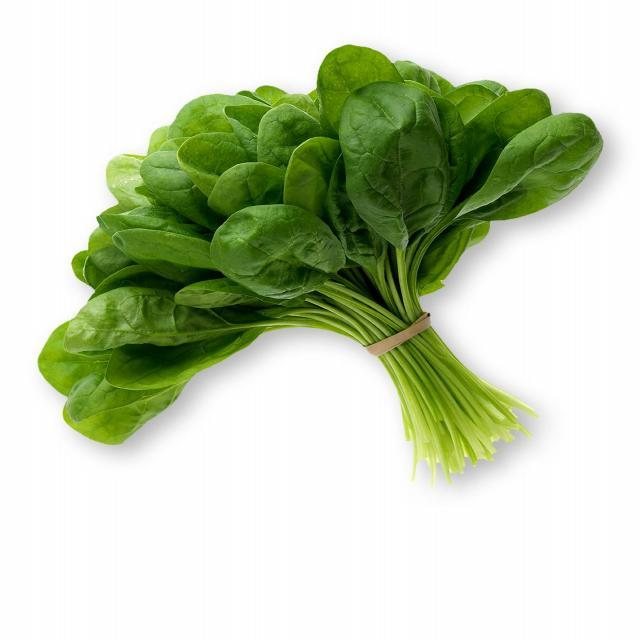Spinach: (31, 40, 608, 495)
